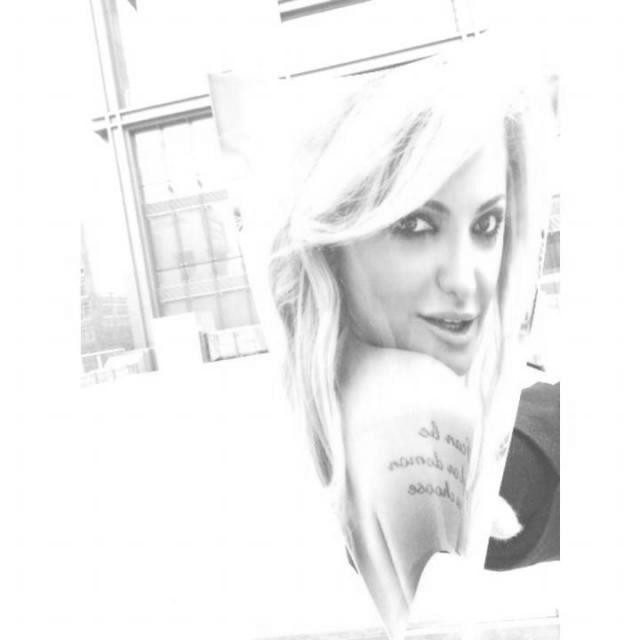fake: (205, 0, 558, 638)
